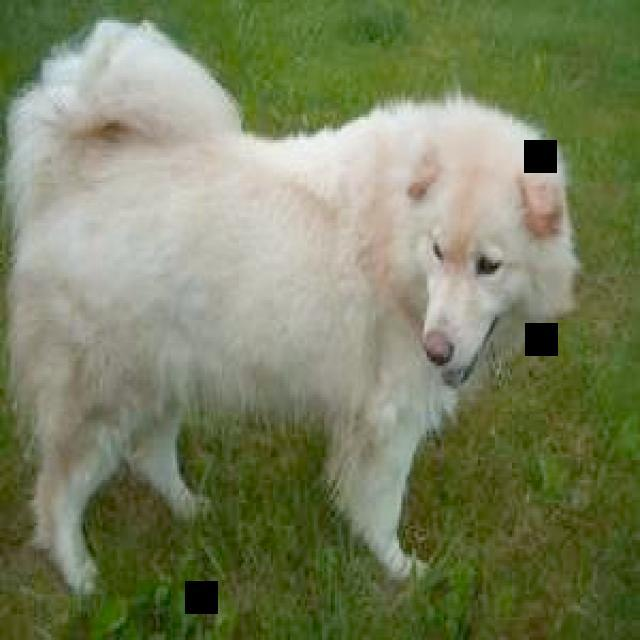adult_dog: (2, 15, 583, 599)
